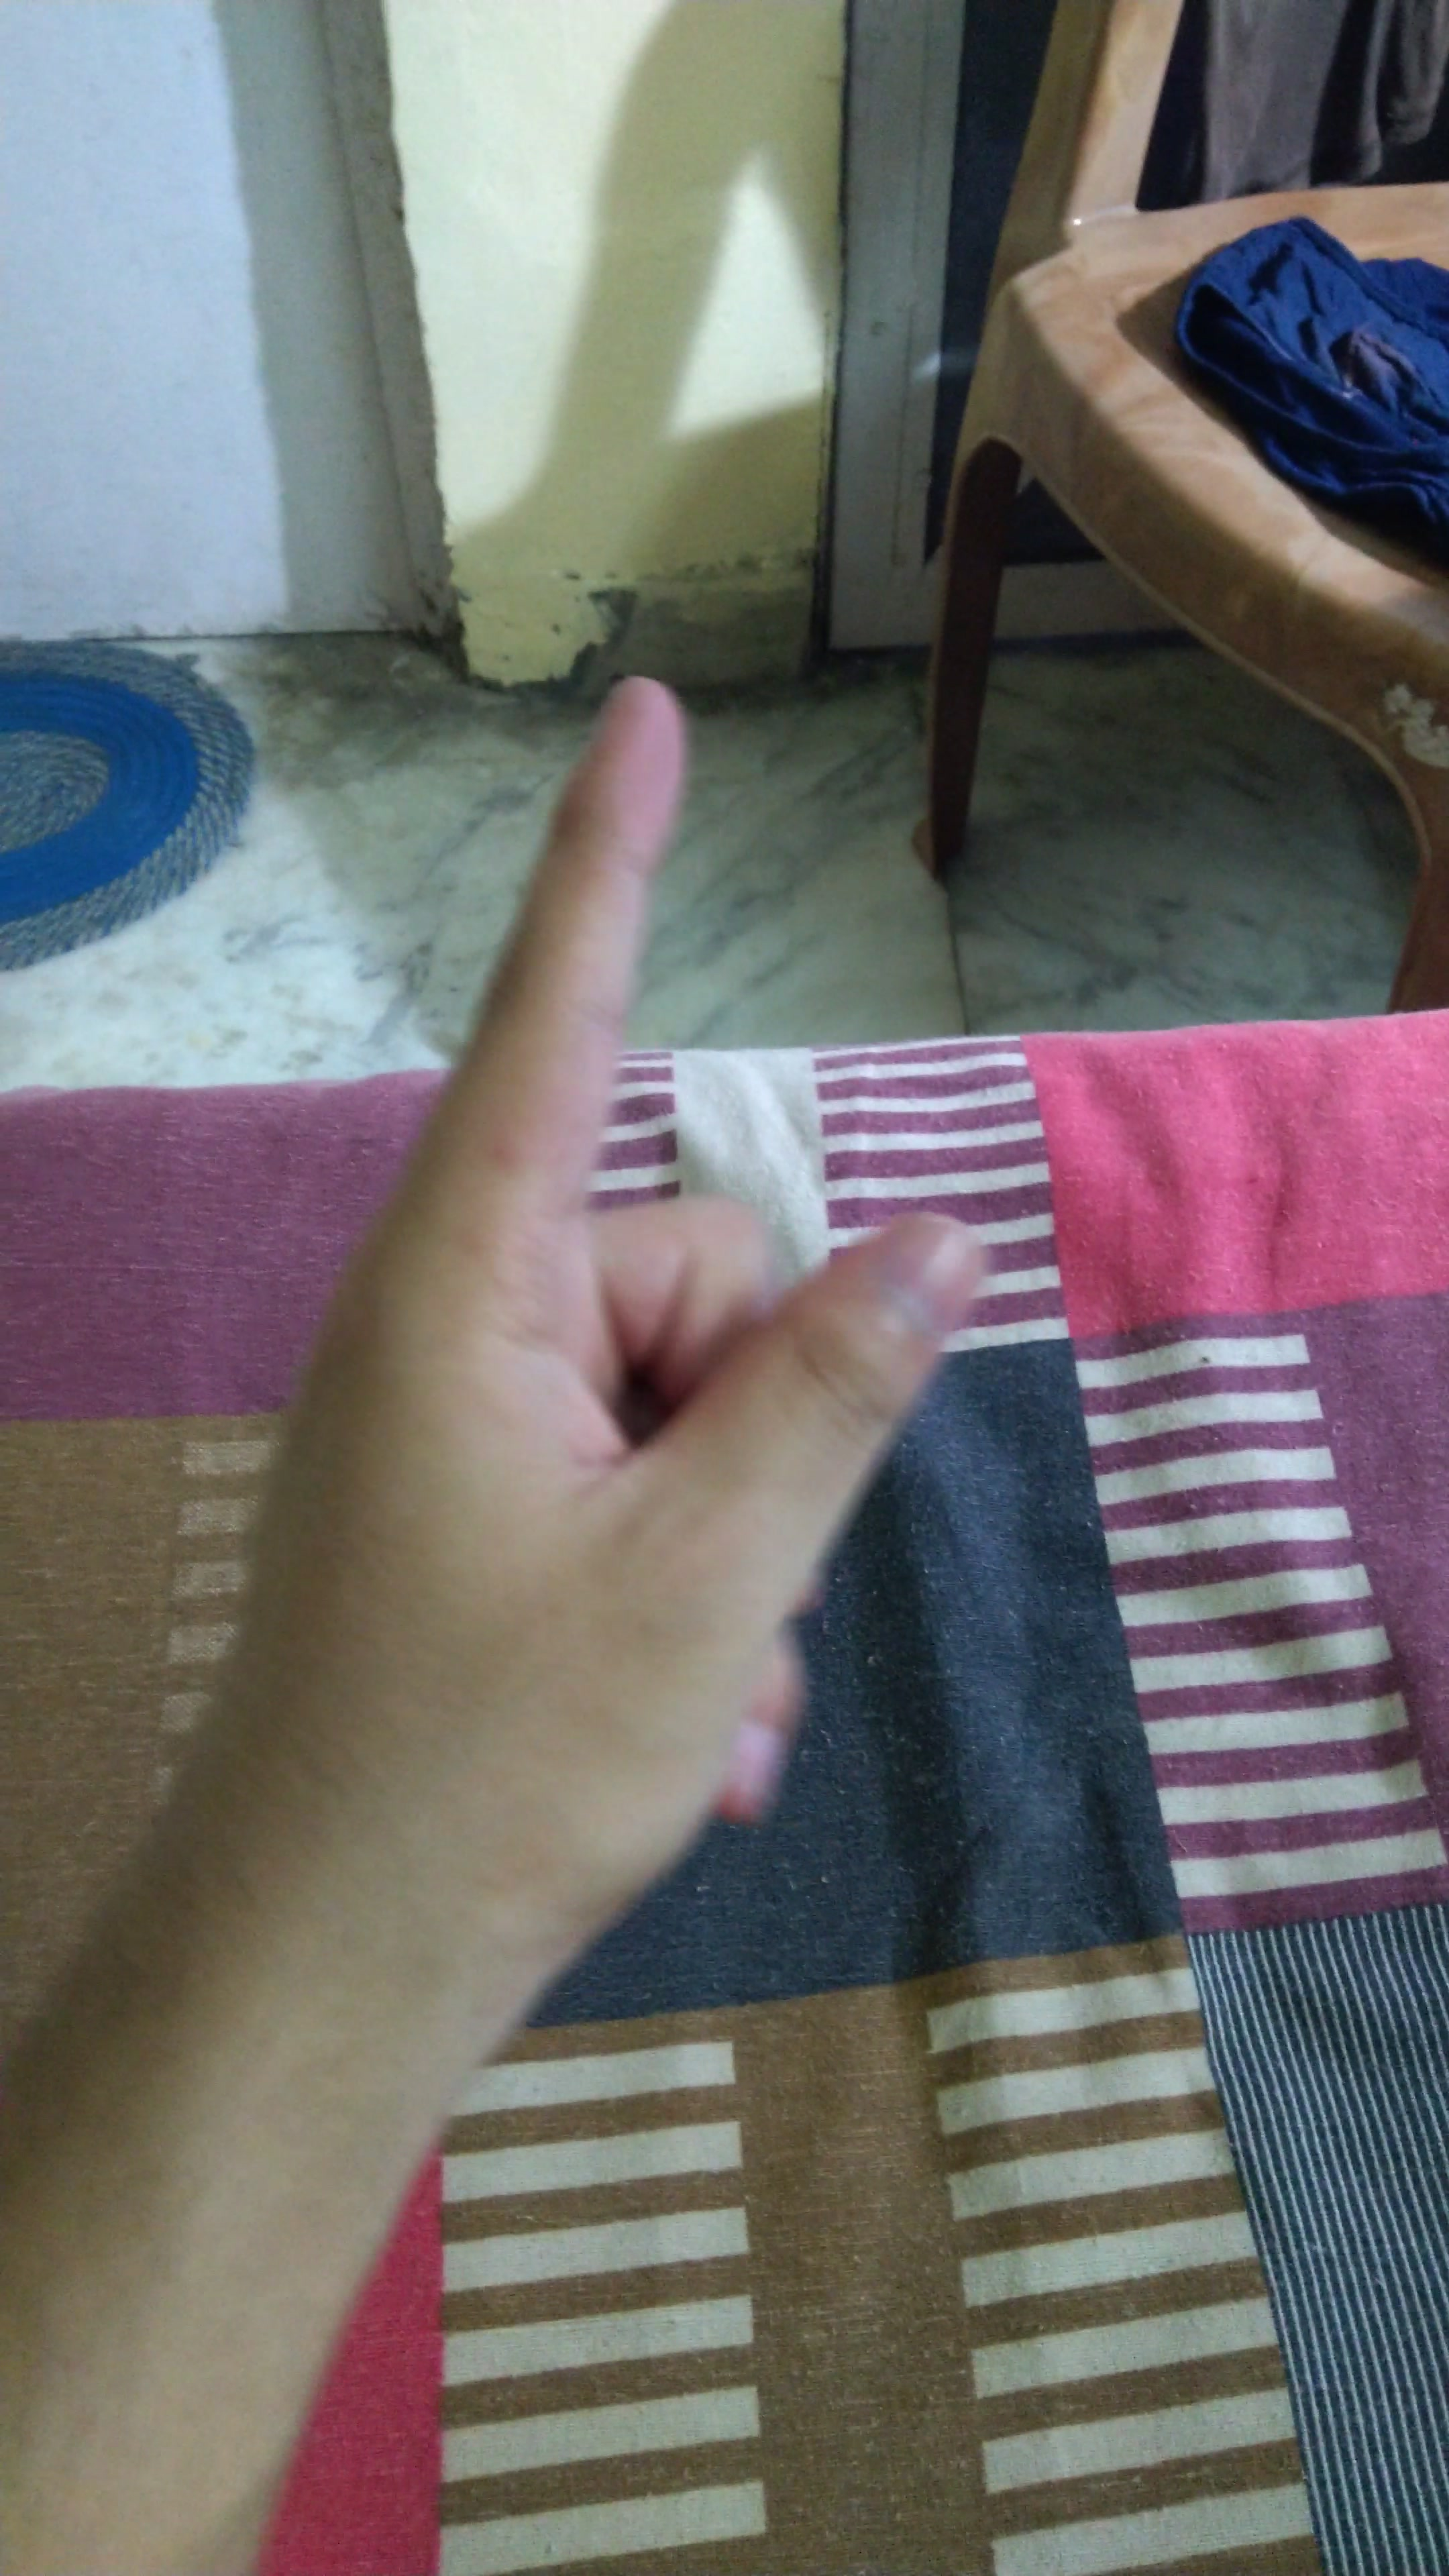hand: (230, 662, 1021, 2005)
